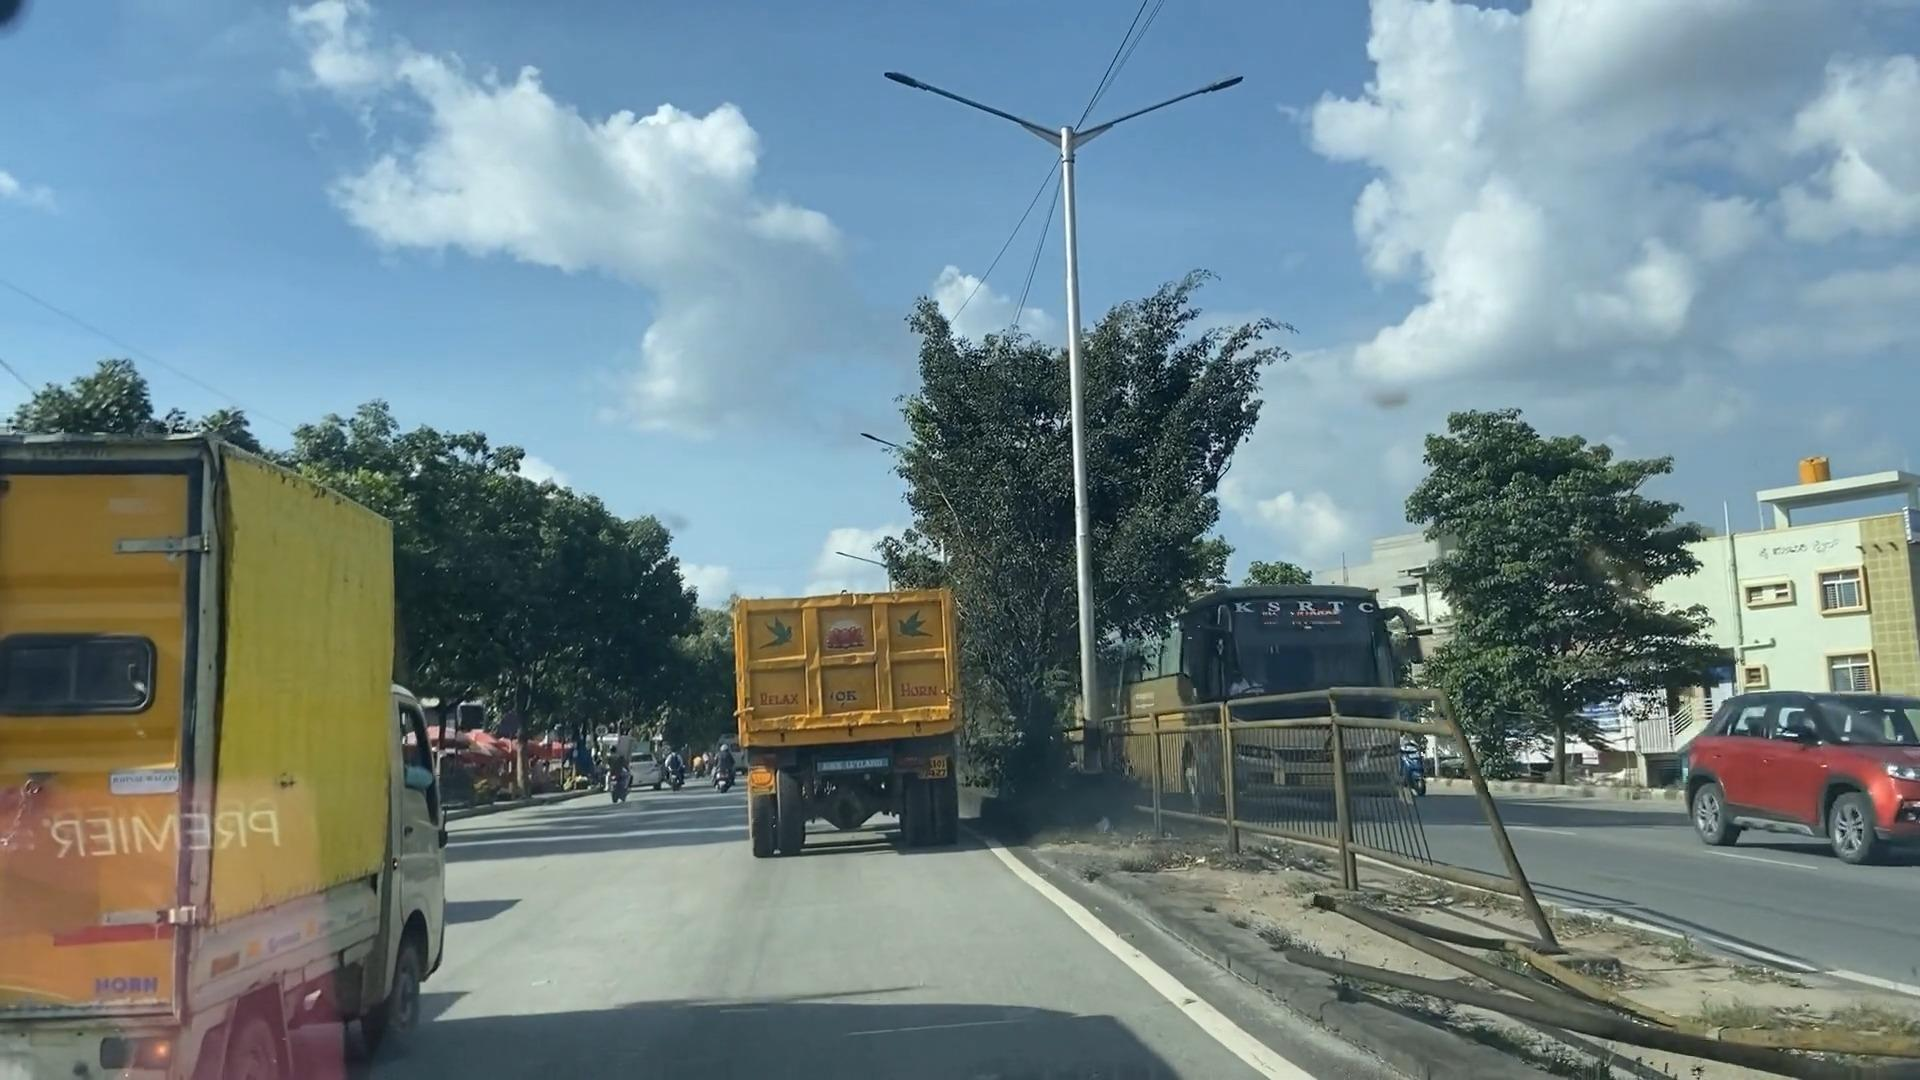HMV: (7, 447, 459, 1080), (725, 596, 964, 839)
